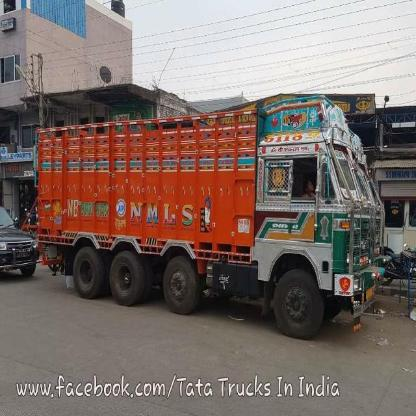truck: (34, 108, 384, 340)
